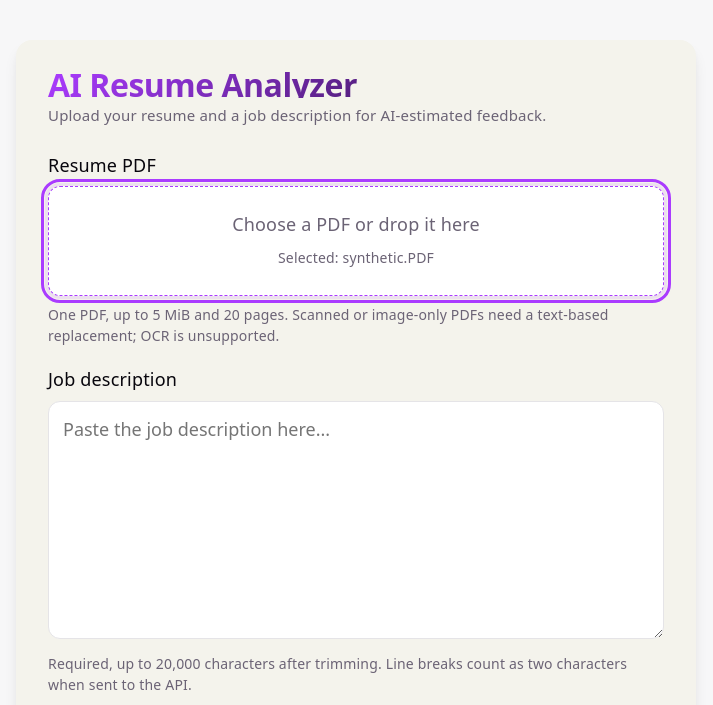
Test case: handles HTTP 400 safely and permits a successful manual retry
The width and height of the screenshot is (713, 705).
Earlier steps of the test are not shown.
Type "  Python developer  " into the text box labelled "Job description" at {"x": 356, "y": 520}, box [48,401,664,639]
(page scrolled)
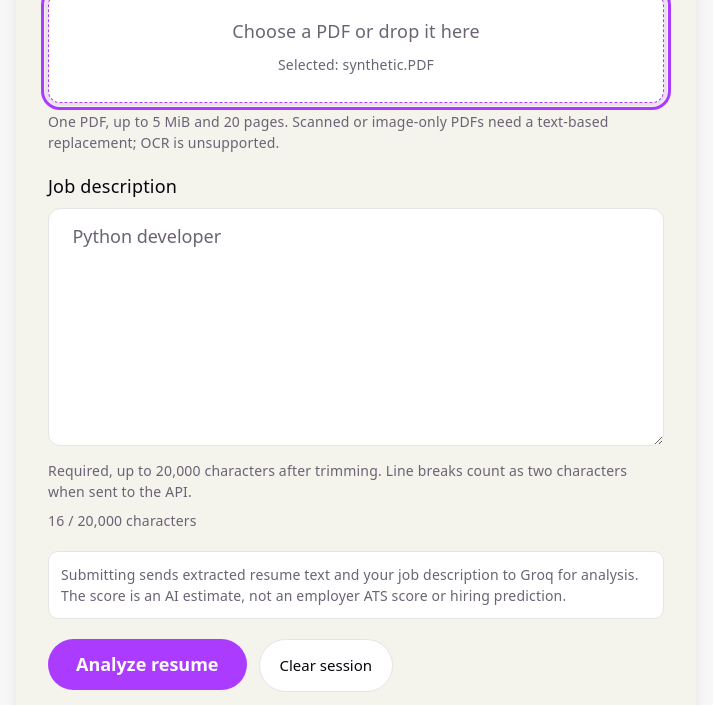
Submit the form named "Analyze resume"
Submit the form named "Analyze resume"
(page scrolled)
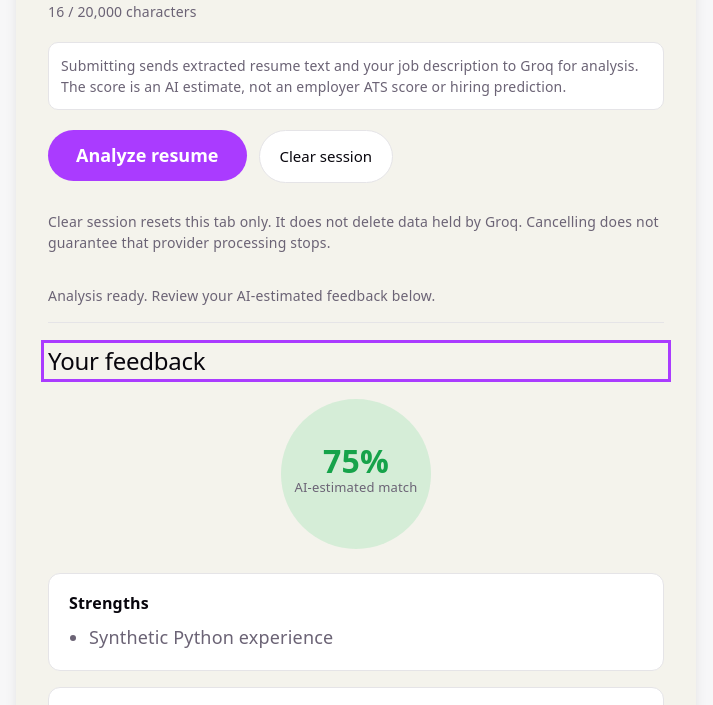
Now the heading "Your feedback" is shown, box [48,344,205,376]
